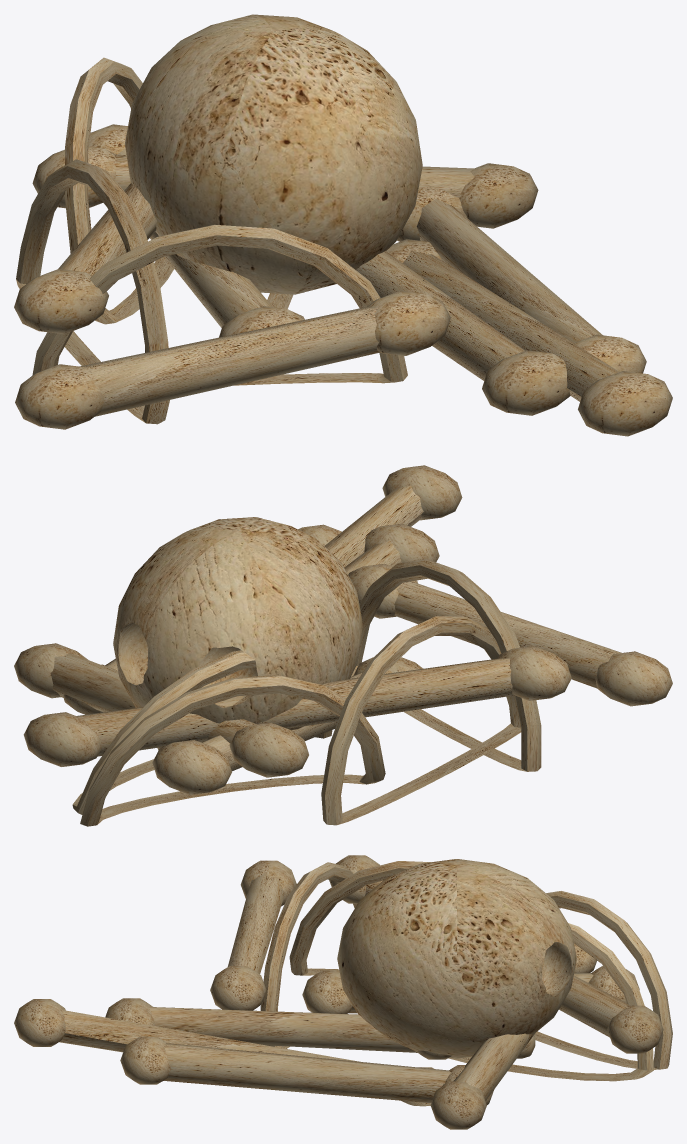
File: bone-pile-v01-photo.glb
3 renders of one model, top to bottom at view 1: azimuth 30°, elevation 25°; view 2: azimuth 150°, elevation 25°; view 3: azimuth 270°, elevation 25°, orthographic. The views are drawn at different scales.
Visible parts, largest first — view 1: bone-pile; view 2: bone-pile; view 3: bone-pile.
Part boxes in pixels (x1,y1,x2,y2): bone-pile: (14, 14, 672, 436); bone-pile: (14, 465, 672, 826); bone-pile: (14, 855, 672, 1129).
Bounding box in the file's own units: 1.24 × 0.468 × 1.52.
Materials: 1 (1 with a texture image).
